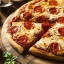pizza: (7, 2, 64, 61)
